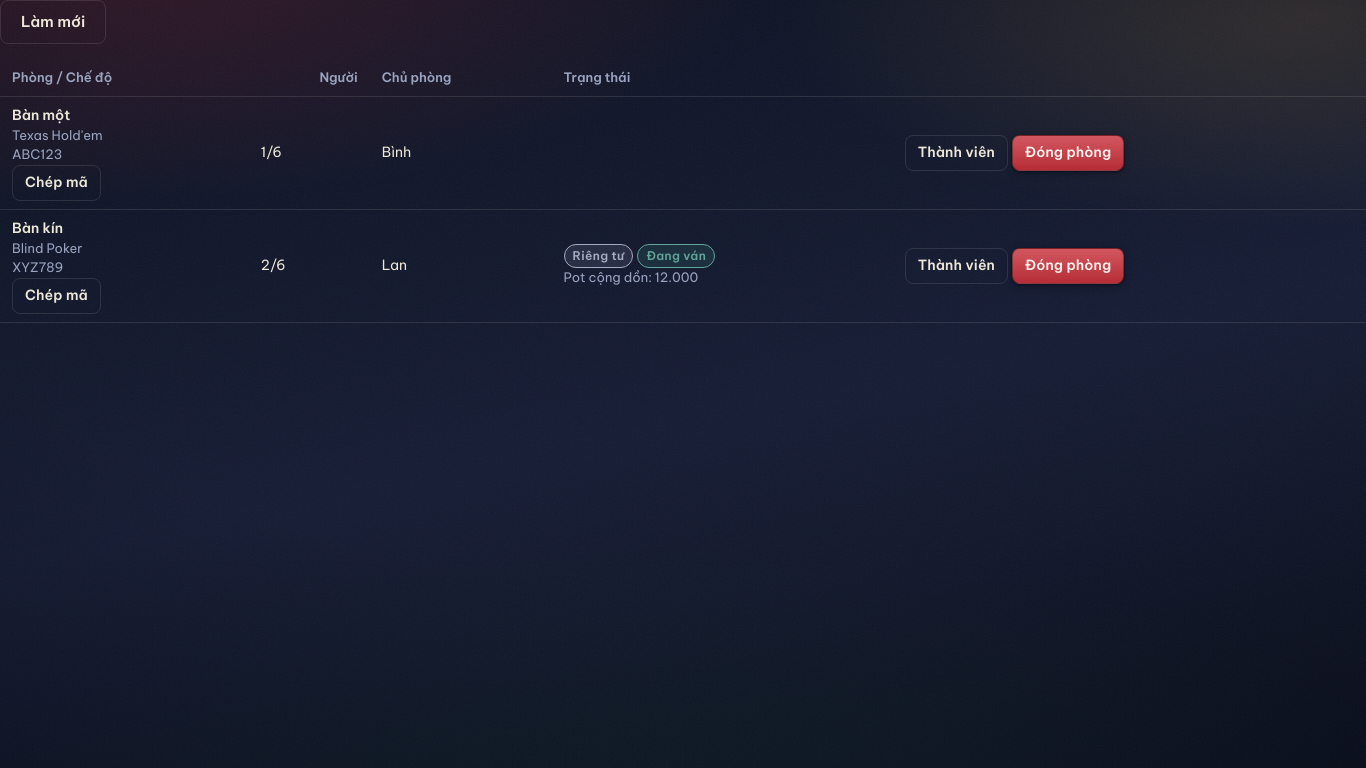
Test: RoomsTab › closes a room only with a reason, then reloads the list and says who got refunded
The width and height of the screenshot is (1366, 768).
Click the button "Đóng phòng" in the row of "Blind Poker". click: (1068, 266)
box: [1012,248,1124,284]
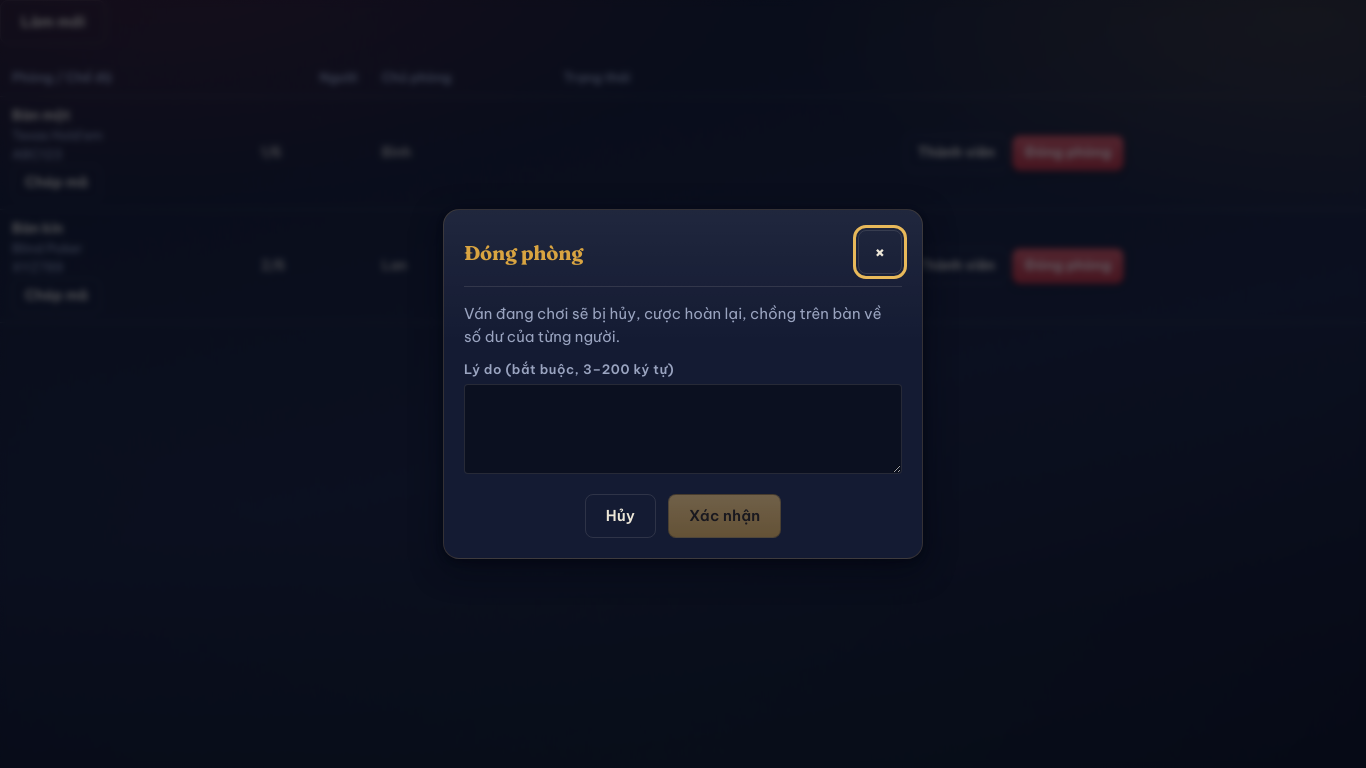
Expected: the text "Ván đang chơi sẽ bị hủy, cược hoàn lại, chồng trên bàn về số dư của từng người." is shown, [464,303,902,348]
Expected: the button "Xác nhận" is disabled, [668,494,781,538]
Type "bàn bị treo" into the text box labelled "Lý do (bắt buộc, 3–200 ký tự)". click: (683, 429)
box: [464,384,902,474]
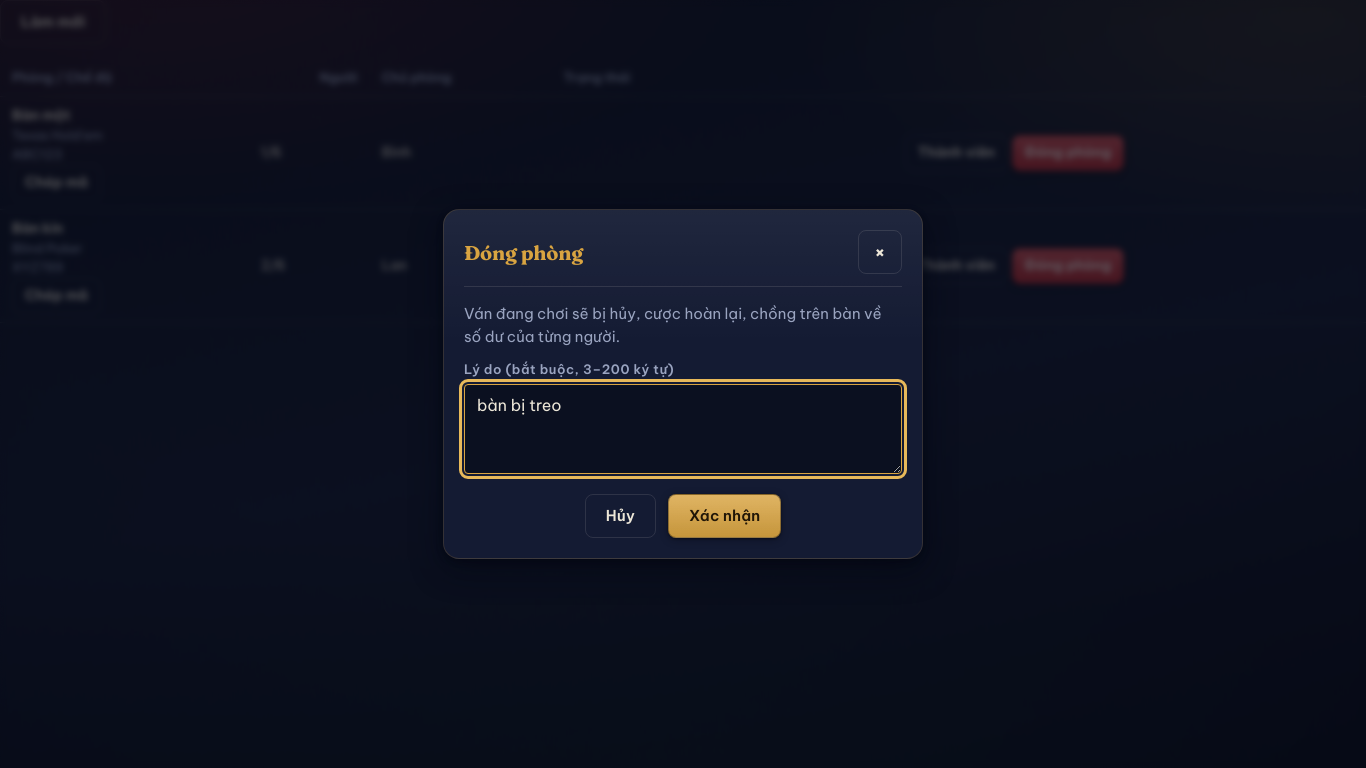
Click the button "Xác nhận". click: (725, 516)
box: [668,494,781,538]
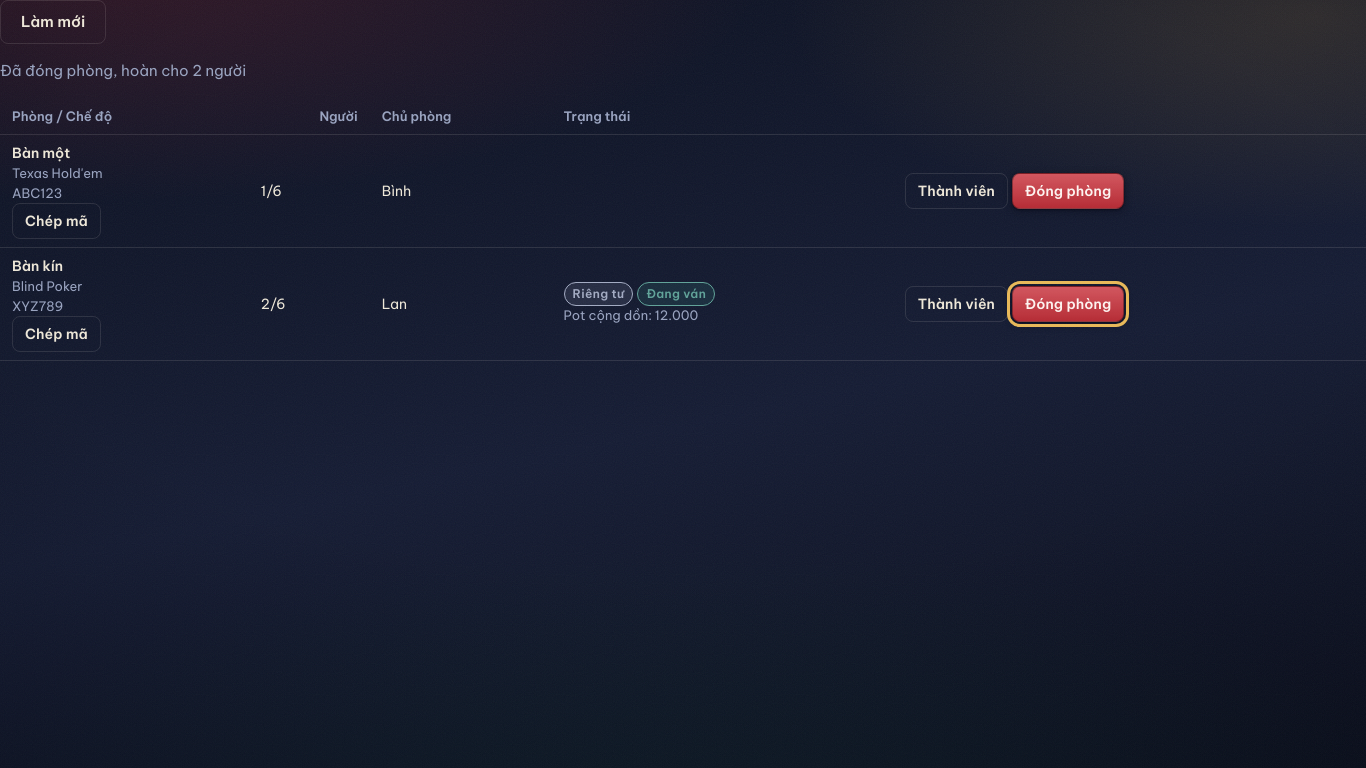
Expected: the message reads "Đã đóng phòng, hoàn cho 2 người", [0,61,246,80]
Expected: the dialog is gone
